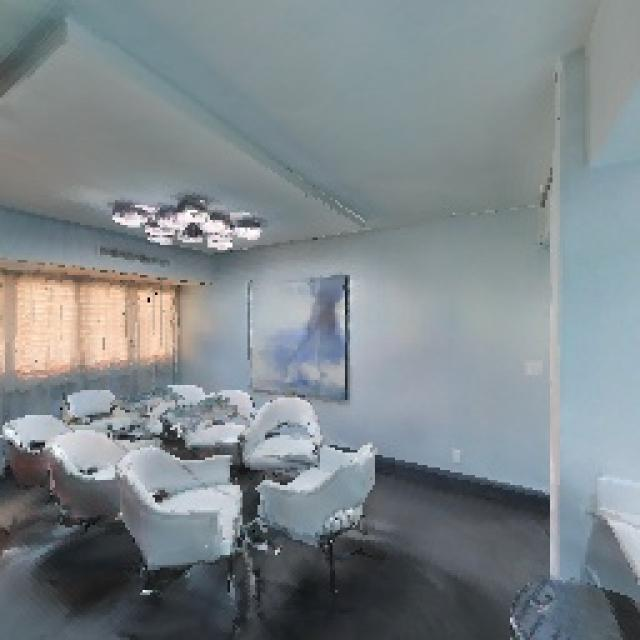chair: (241, 433, 422, 613), (119, 431, 244, 620), (38, 420, 144, 611), (0, 399, 94, 548), (237, 375, 329, 511)
